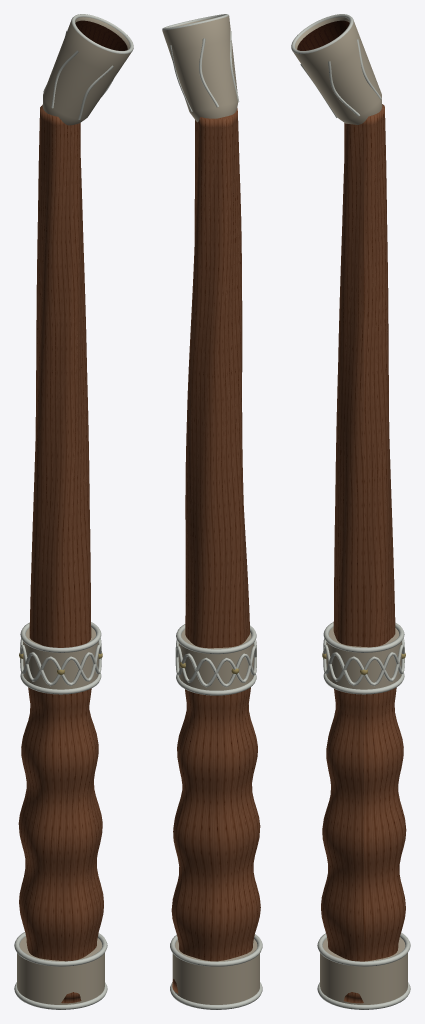
Rendered from cinderpine_wand.glb.
The picture shows the model from 3 angles, left to right: view 1: azimuth 90°, elevation 25°; view 2: azimuth 210°, elevation 25°; view 3: azimuth 270°, elevation 25°; orthographic projection.
Visible parts, largest first — view 1: walnut oiled carved wood, Titanium fittings, walnut worn fitting edges, Dark recessed walnut socket lining; view 2: walnut oiled carved wood, Titanium fittings, walnut worn fitting edges; view 3: walnut oiled carved wood, Titanium fittings, walnut worn fitting edges, Dark recessed walnut socket lining.
Part boxes in pixels (x1,y1,x2,y2): walnut oiled carved wood: (18, 105, 103, 1003); Titanium fittings: (17, 17, 131, 1004); walnut worn fitting edges: (14, 14, 133, 1009); Dark recessed walnut socket lining: (75, 20, 127, 50); walnut oiled carved wood: (171, 108, 260, 993); Titanium fittings: (162, 16, 259, 1004); walnut worn fitting edges: (162, 14, 262, 1009); walnut oiled carved wood: (321, 104, 406, 1003); Titanium fittings: (293, 17, 407, 1004); walnut worn fitting edges: (291, 14, 410, 1009); Dark recessed walnut socket lining: (297, 20, 349, 50).
Bounding box in the file's own units: 0.0488 × 0.5602 × 0.0624.
Materials: 5 (2 with a texture image).
